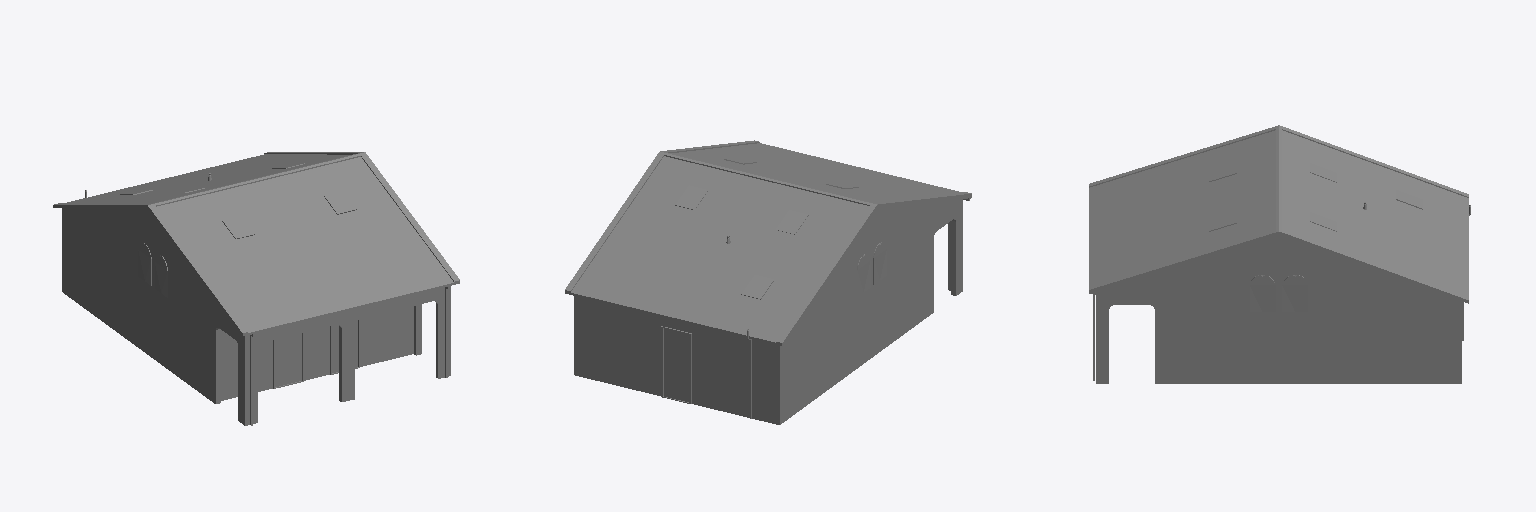
Rendered from house_01.obj.
3 renders of one model, left to right at view 1: azimuth 30°, elevation 25°; view 2: azimuth 150°, elevation 25°; view 3: azimuth 270°, elevation 25°, orthographic.
Visible parts, largest first — view 1: house; view 2: house; view 3: house.
Boxes of the visible parts, x1=… form: house: x1=53, y1=152, x2=459, y2=425; house: x1=565, y1=140, x2=971, y2=424; house: x1=1089, y1=125, x2=1470, y2=383.
Size of the model in its own units: 6.58 by 4.47 by 9.98.